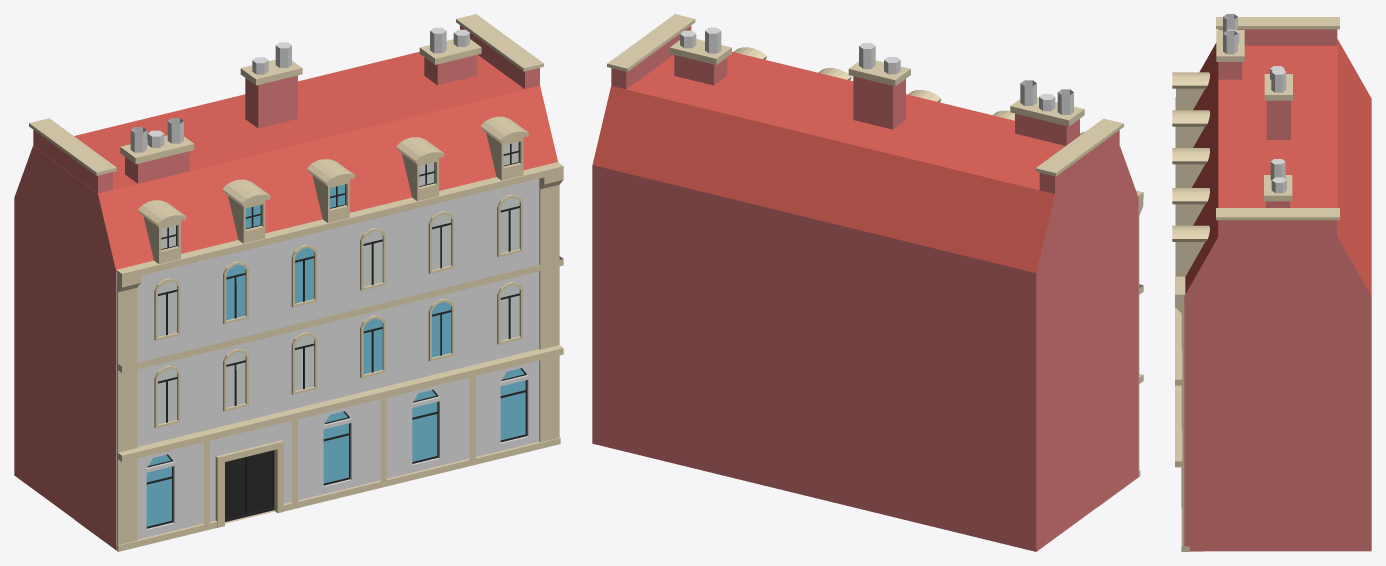
Rendered from Bloc_13F.fbx.
The picture shows the model from 3 angles, left to right: view 1: azimuth 30°, elevation 25°; view 2: azimuth 150°, elevation 25°; view 3: azimuth 270°, elevation 25°; orthographic projection. The views are drawn at different scales.
Visible parts, largest first — view 1: Bloc_13F; view 2: Bloc_13F; view 3: Bloc_13F.
Boxes of the visible parts, box(x1,y1,x2,y2) form: Bloc_13F: box(14, 14, 563, 551); Bloc_13F: box(592, 14, 1143, 551); Bloc_13F: box(1172, 14, 1371, 551).
Size of the model in its own units: 638 by 1343 by 1517.
